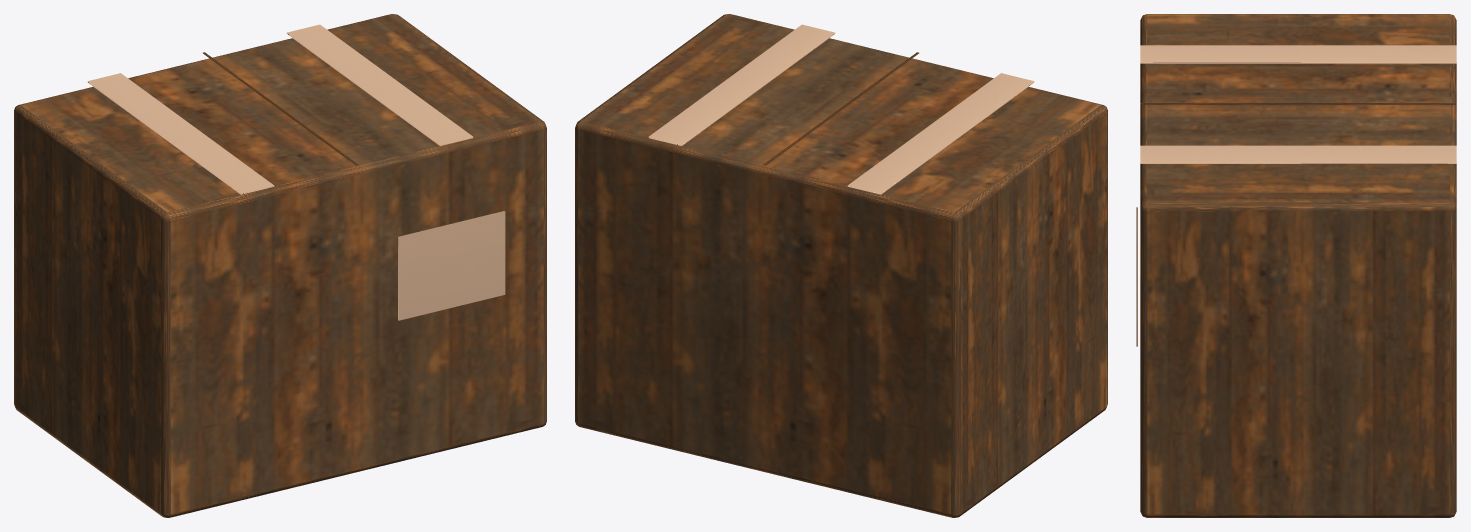
Rendered from thung_hang.glb.
3 renders of one model, left to right at view 1: azimuth 30°, elevation 25°; view 2: azimuth 150°, elevation 25°; view 3: azimuth 270°, elevation 25°, orthographic. The views are drawn at different scales.
Visible parts, largest first — view 1: thung_hang.001; view 2: thung_hang.001; view 3: thung_hang.001.
Part boxes in pixels (<box>): thung_hang.001: <box>14,14,546,517</box>; thung_hang.001: <box>575,14,1107,517</box>; thung_hang.001: <box>1136,14,1456,517</box>.
Size of the model in its own units: 0.58 by 0.4465 by 0.405.
Materials: 1 (1 with a texture image).
